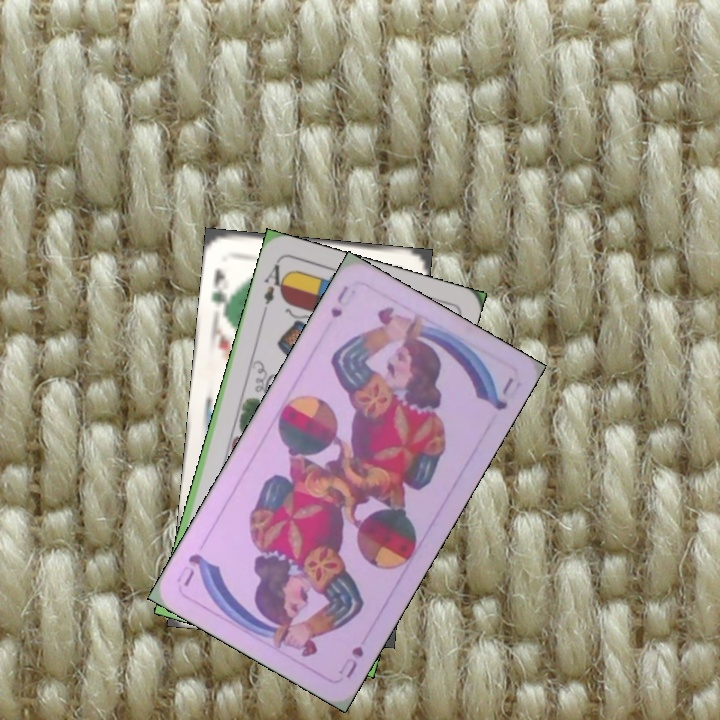EA: (258, 258, 290, 316)
GK: (206, 265, 233, 314)
SU: (334, 642, 366, 681), (326, 281, 351, 321)
